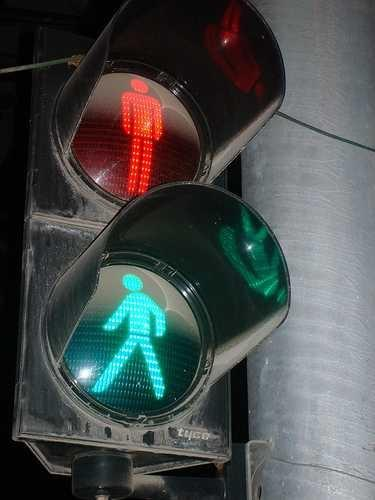green: (48, 240, 228, 424)
red: (65, 51, 246, 223)
